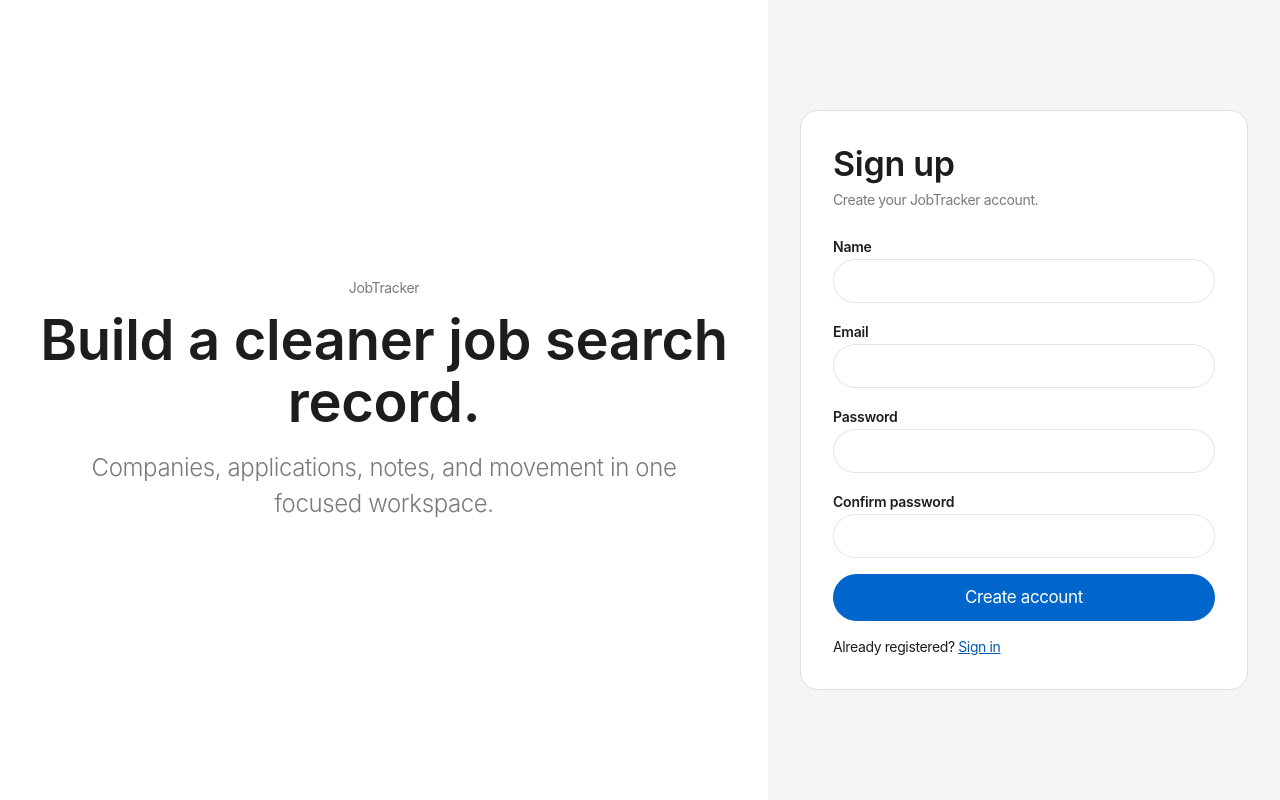
Test: signup form › blocks submit when required fields are missing
Click the button "Create account": click(1024, 597) x1=833 y1=574 x2=1215 y2=621
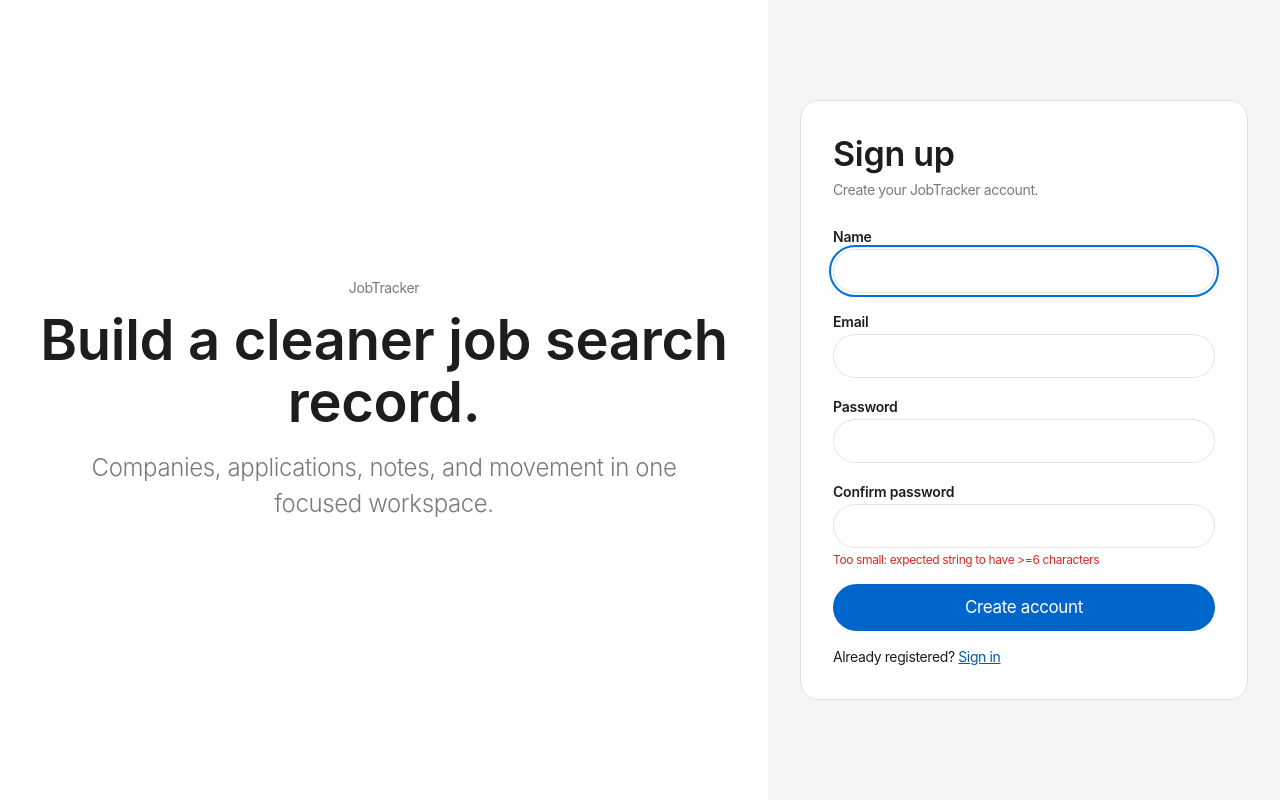
Check: the text "expected string to have >=6 characters" is shown, box x1=833 y1=552 x2=1099 y2=567
